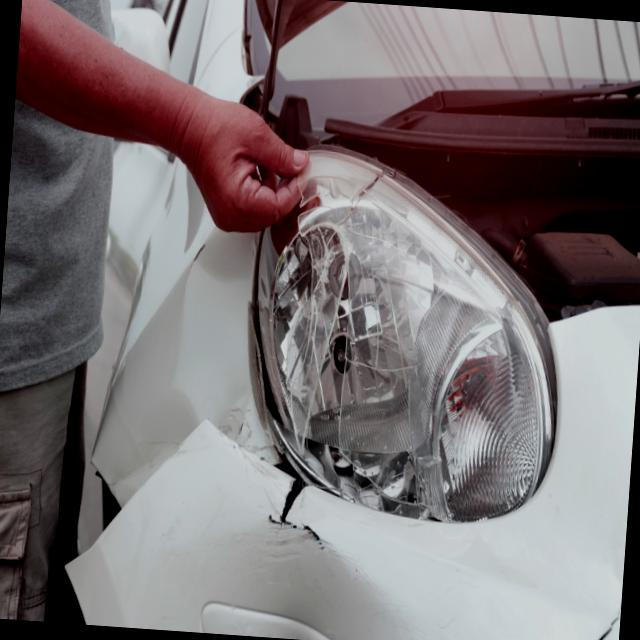Dechirure: (251, 444, 317, 531), (552, 596, 621, 640)
Phare abime: (242, 151, 492, 521)
Rayure: (260, 514, 326, 557)
